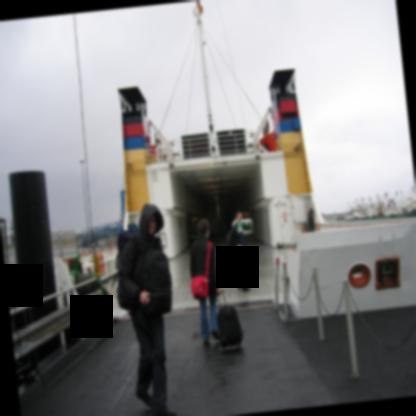backpack: (130, 235, 173, 314), (116, 223, 138, 311), (225, 221, 237, 251)
handbag: (191, 240, 212, 299), (234, 222, 248, 260)
suitcase: (214, 287, 243, 350)
